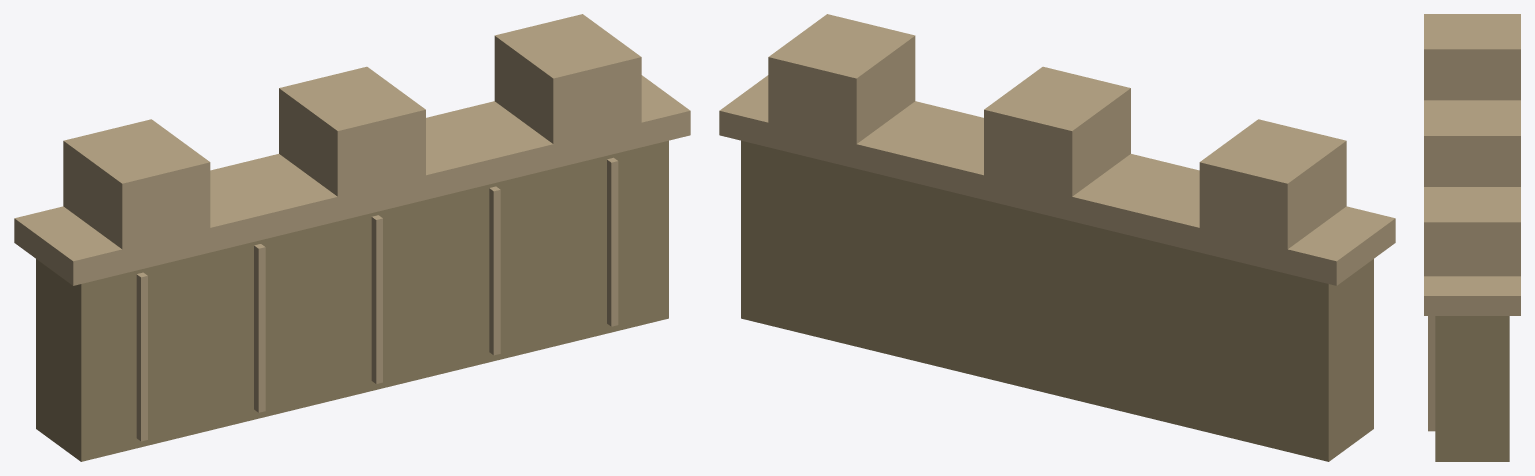
Rendered from PirateCove_FortBankWall_Showcase.glb.
The picture shows the model from 3 angles, left to right: view 1: azimuth 30°, elevation 25°; view 2: azimuth 150°, elevation 25°; view 3: azimuth 270°, elevation 25°; orthographic projection. The views are drawn at different scales.
Visible parts, largest first — view 1: PirateCove_FortBankWall_Showcase; view 2: PirateCove_FortBankWall_Showcase; view 3: PirateCove_FortBankWall_Showcase.
Part boxes in pixels (x1=…): PirateCove_FortBankWall_Showcase: x1=14, y1=14, x2=690, y2=461; PirateCove_FortBankWall_Showcase: x1=719, y1=14, x2=1395, y2=461; PirateCove_FortBankWall_Showcase: x1=1424, y1=14, x2=1520, y2=461.
Size of the model in its own units: 3.15 by 1.34 by 0.52.
